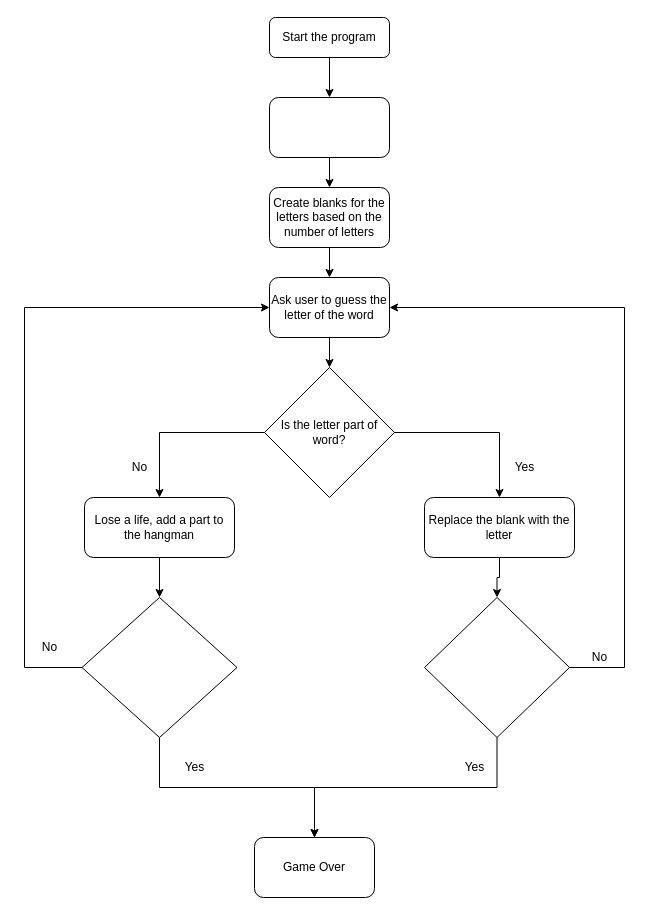
Some shapes in this 650 by 915 pixel diagram are drawn without their labels. Here are the shapes that lost their labels. From the top down, the centre of each, then its label:
At pixel 329 127: "Get a random word".
At pixel 159 667: "Have they run out of lives?".
At pixel 497 667: "Are all the blanks filled?".
